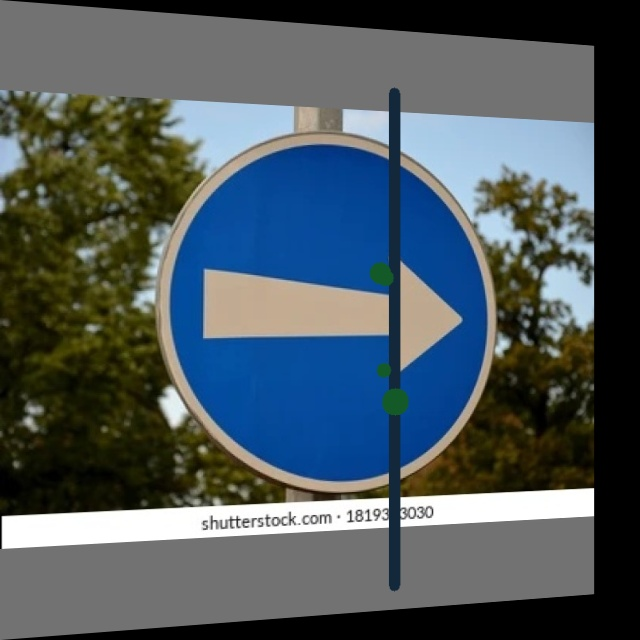Compulsory_Turn_Right: (164, 123, 487, 490)
